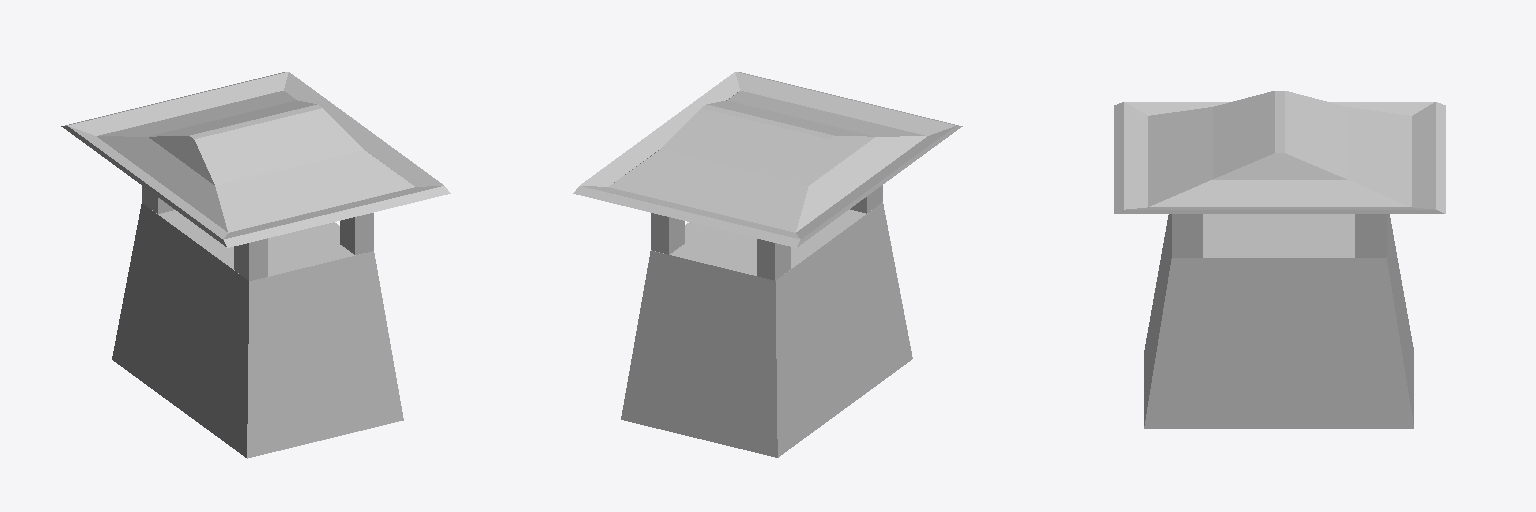
Rendered from Mini_Temple.OBJ.
The picture shows the model from 3 angles: view 1: azimuth 30°, elevation 25°; view 2: azimuth 150°, elevation 25°; view 3: azimuth 270°, elevation 25°; orthographic projection.
Parts seen in each view (by area): view 1: Group2; view 2: Group2; view 3: Group2.
Part boxes in pixels (left/top/right/bottom): Group2: left=61, top=72, right=450, bottom=458; Group2: left=573, top=72, right=962, bottom=457; Group2: left=1114, top=91, right=1445, bottom=428.
Size of the model in its own units: 106 by 122 by 137.